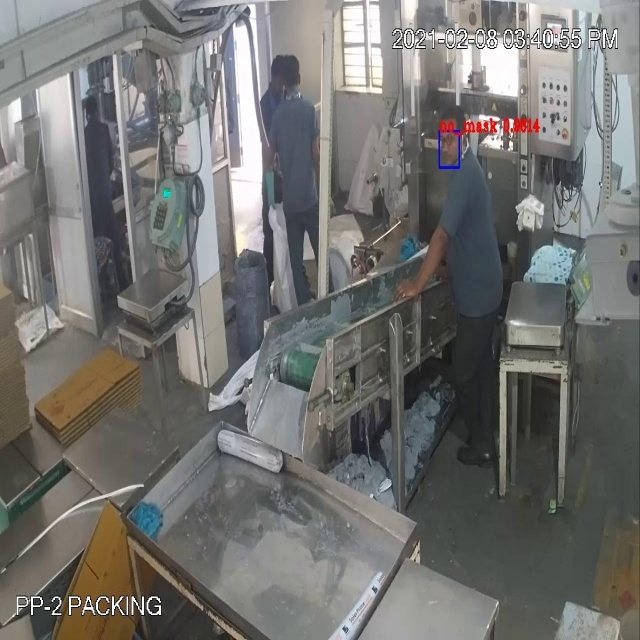Sin_guantes: (386, 212, 461, 309)
